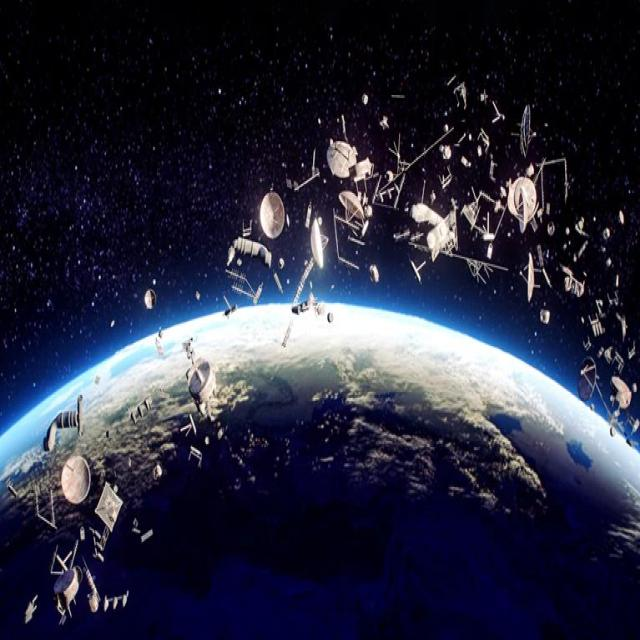large_debris: (279, 248, 337, 352), (408, 196, 460, 268), (331, 186, 372, 274), (181, 334, 218, 426), (49, 538, 82, 627), (40, 390, 85, 454), (503, 166, 540, 239), (58, 449, 94, 510), (225, 233, 274, 276), (256, 182, 288, 246), (326, 129, 360, 184), (224, 265, 265, 310), (510, 95, 538, 160), (280, 153, 322, 196), (92, 480, 125, 533), (461, 183, 496, 232), (80, 556, 104, 620), (575, 350, 600, 409), (308, 213, 330, 276), (517, 245, 540, 304), (560, 260, 588, 302), (609, 370, 632, 416), (126, 391, 154, 425), (218, 287, 243, 321), (103, 589, 131, 618), (597, 344, 625, 373), (586, 310, 606, 340), (22, 593, 39, 628), (477, 121, 490, 163), (142, 283, 158, 317), (614, 307, 629, 343), (366, 254, 381, 289), (187, 442, 203, 472), (150, 460, 166, 486), (439, 141, 453, 166), (602, 222, 613, 245), (617, 206, 627, 229)
